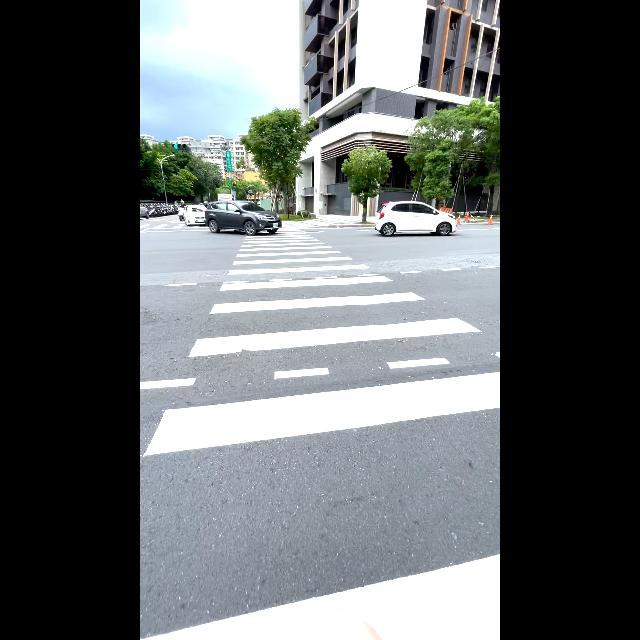sidewalk: (143, 233, 499, 640)
